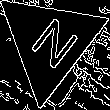N_SW: (20, 10, 80, 75)
